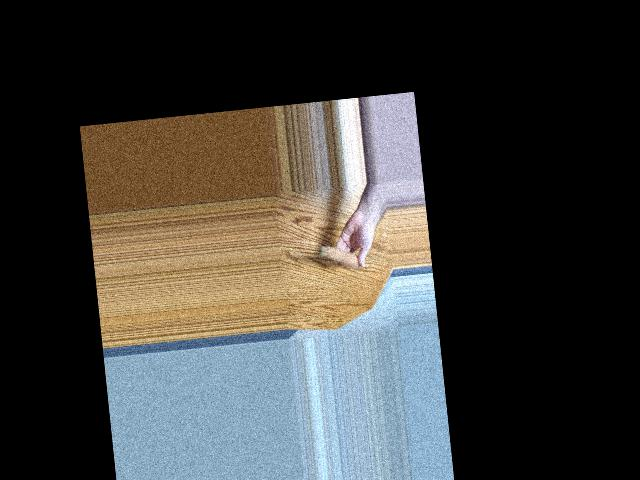sweet_potato: (319, 240, 363, 272)
